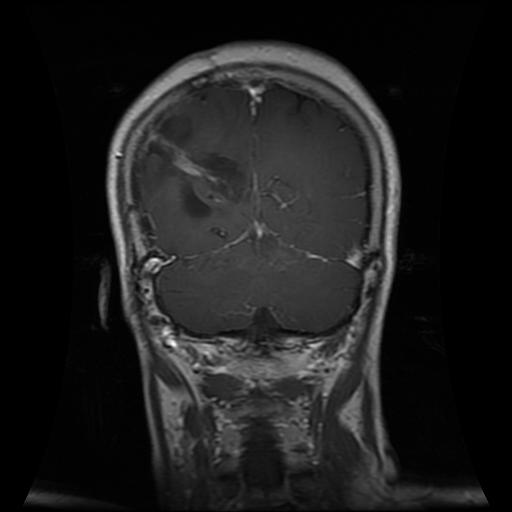Gliomia_tumour: (134, 106, 248, 221)
